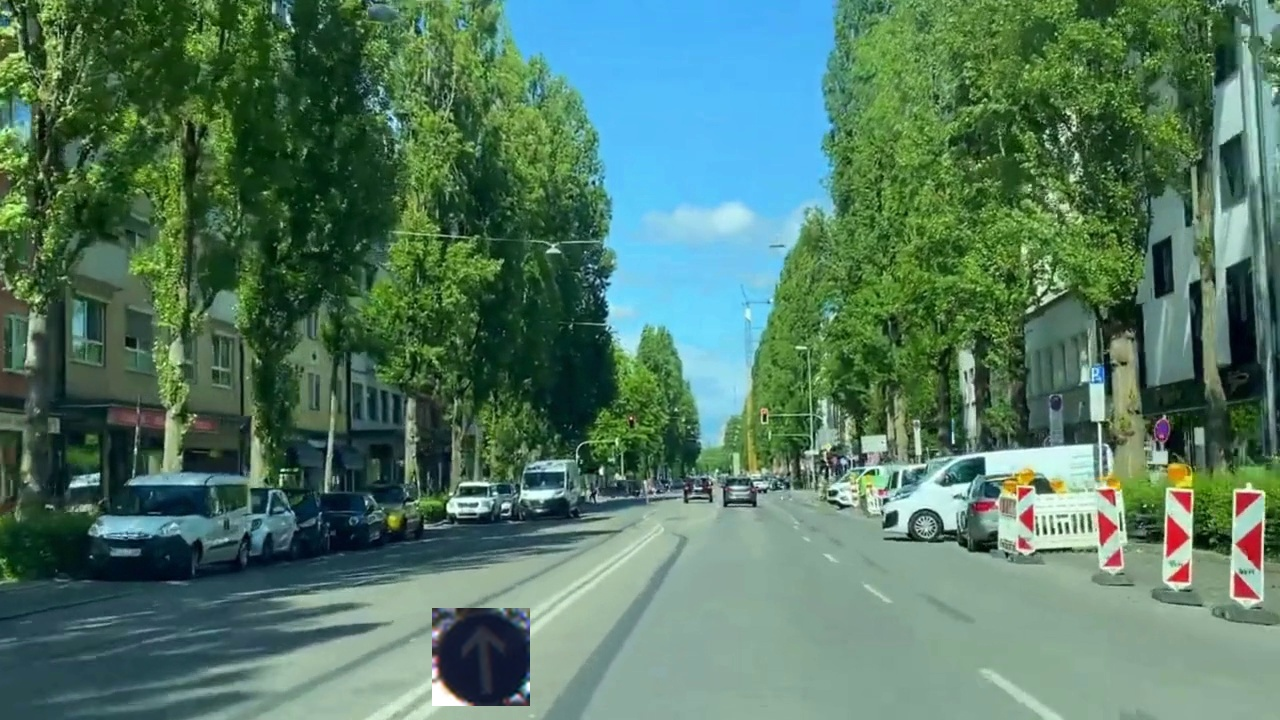Ahead only: (432, 608, 530, 706)
